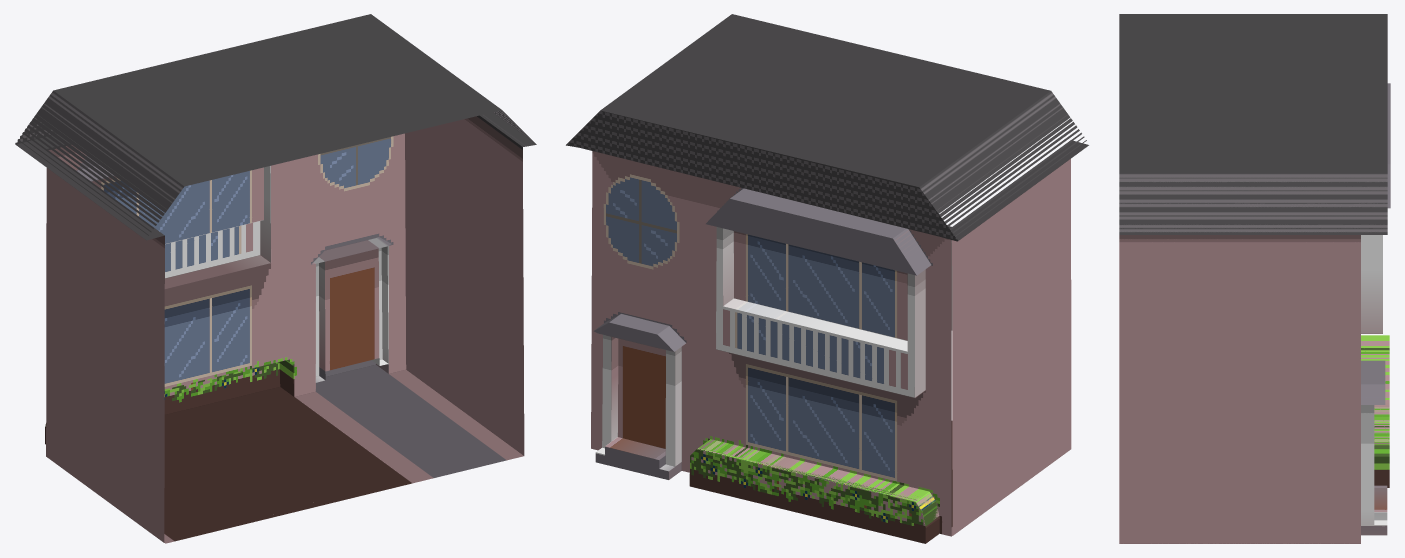
File: TitaHouse.fbx
The picture shows the model from 3 angles, left to right: view 1: azimuth 30°, elevation 25°; view 2: azimuth 150°, elevation 25°; view 3: azimuth 270°, elevation 25°; orthographic projection. The views are drawn at different scales.
Visible parts, largest first — view 1: Plane.008; view 2: Plane.008; view 3: Plane.008.
Part boxes in pixels (left/top/right/bottom): Plane.008: left=15, top=14, right=536, bottom=543; Plane.008: left=566, top=14, right=1088, bottom=543; Plane.008: left=1119, top=14, right=1390, bottom=543.
Bounding box in the file's own units: 874 × 752 × 513.
1 material, 1 textured.
